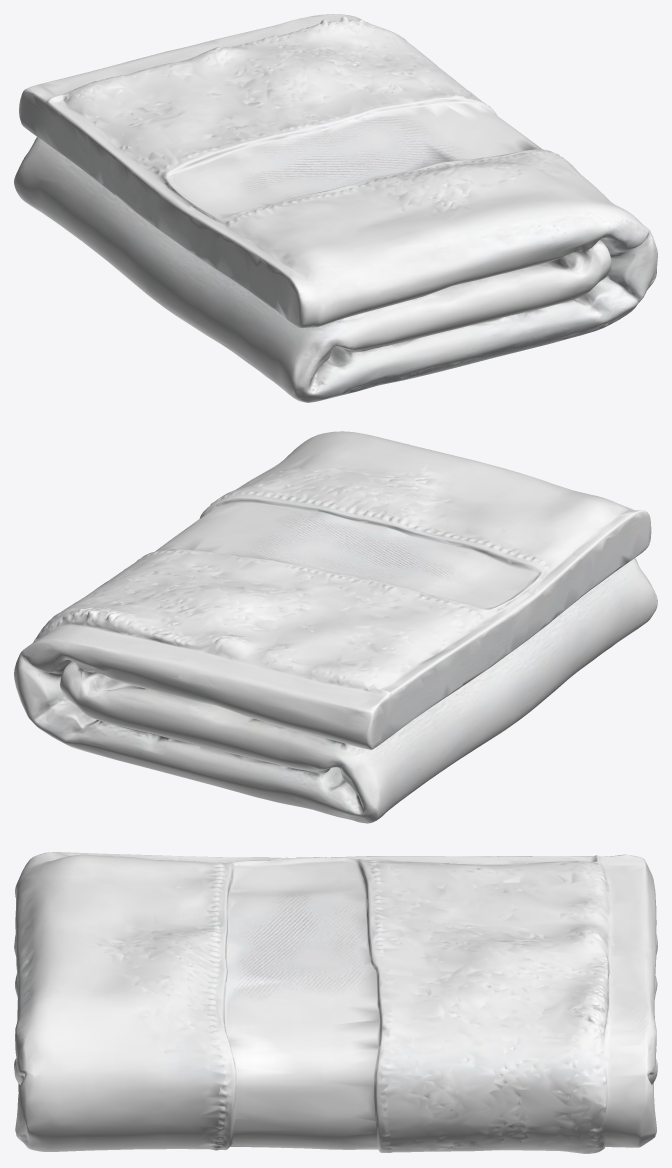
3 views of the same model, one above another, from view 1: azimuth 30°, elevation 25°; view 2: azimuth 150°, elevation 25°; view 3: azimuth 270°, elevation 25° (orthographic). The views are drawn at different scales.
Parts seen in each view (by area): view 1: tripo_node_c167667c-3770-4746-b244-bf2efdbed863; view 2: tripo_node_c167667c-3770-4746-b244-bf2efdbed863; view 3: tripo_node_c167667c-3770-4746-b244-bf2efdbed863.
Boxes of the visible parts, <box> form: tripo_node_c167667c-3770-4746-b244-bf2efdbed863: <box>14,14,657,402</box>; tripo_node_c167667c-3770-4746-b244-bf2efdbed863: <box>14,431,657,823</box>; tripo_node_c167667c-3770-4746-b244-bf2efdbed863: <box>14,852,657,1153</box>.
Size of the model in its own units: 0.7405 by 0.2721 by 0.9998.
1 material, 1 textured.
